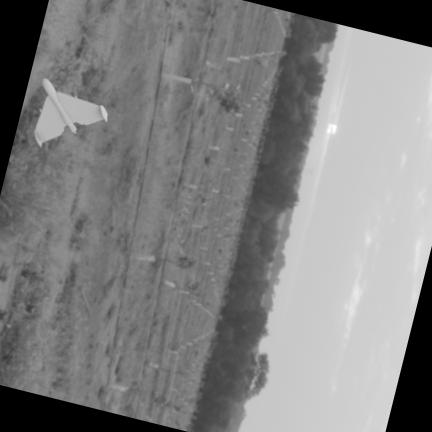Shahed: (34, 78, 105, 146)
